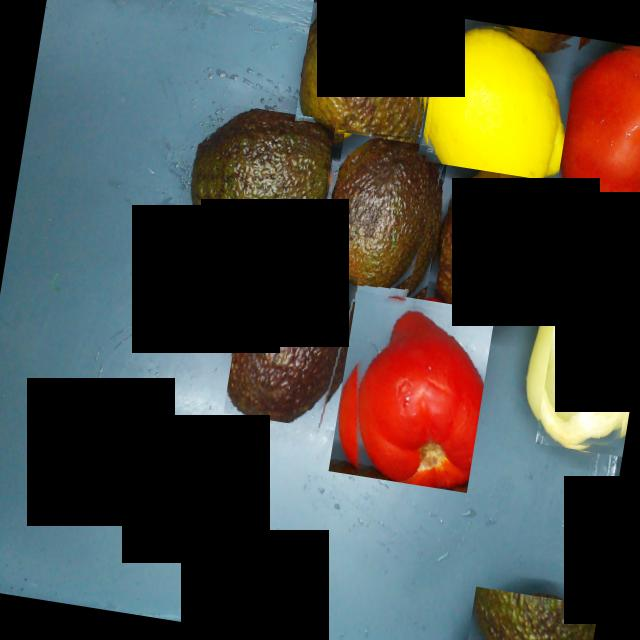avocado: (185, 101, 337, 268), (224, 250, 362, 431), (318, 133, 449, 317), (433, 158, 576, 321), (294, 0, 440, 146), (463, 587, 598, 640)
lemon: (420, 15, 584, 183)
pepper: (535, 214, 640, 457)
tomatoes: (328, 290, 496, 494), (554, 37, 640, 221)
